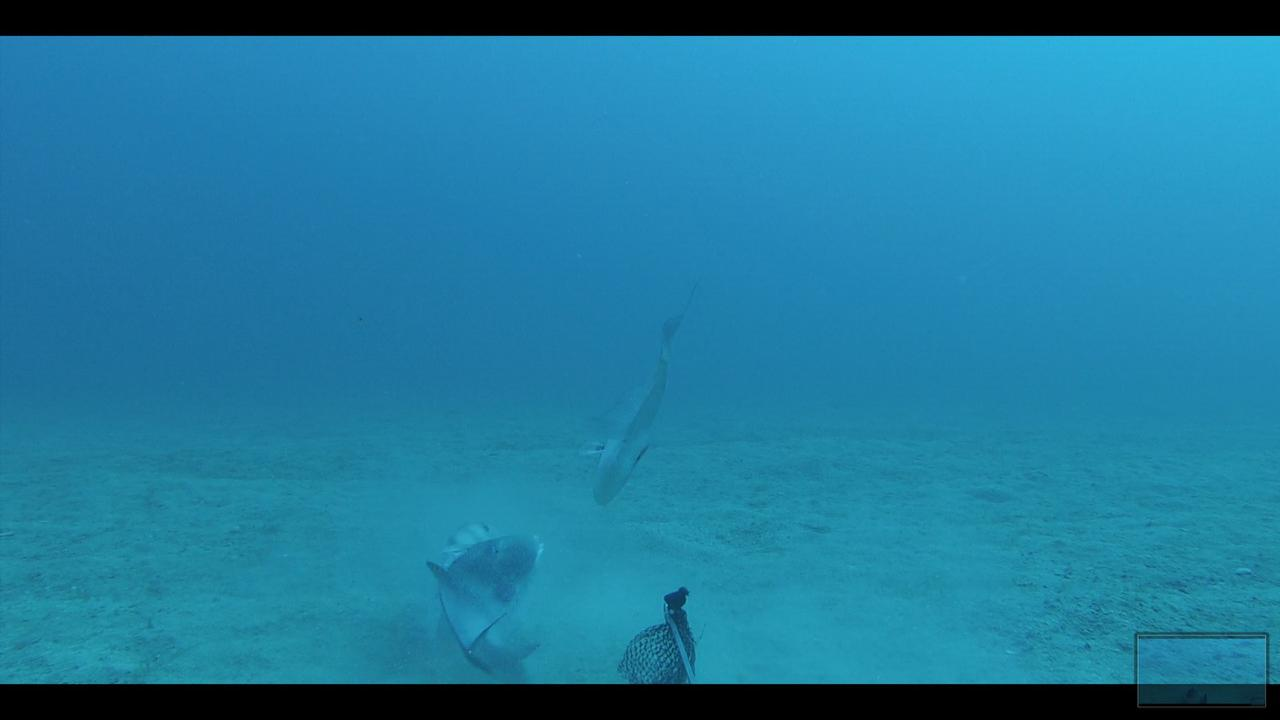balistes: (569, 273, 701, 511), (421, 526, 545, 678)
